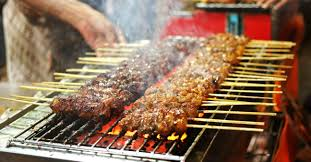sate: (37, 18, 258, 153)
